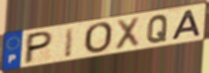A: (170, 8, 202, 42)
I: (63, 25, 76, 59)
O: (83, 21, 116, 55)
P: (22, 30, 56, 66)
Q: (145, 14, 170, 45)
X: (113, 15, 143, 52)
